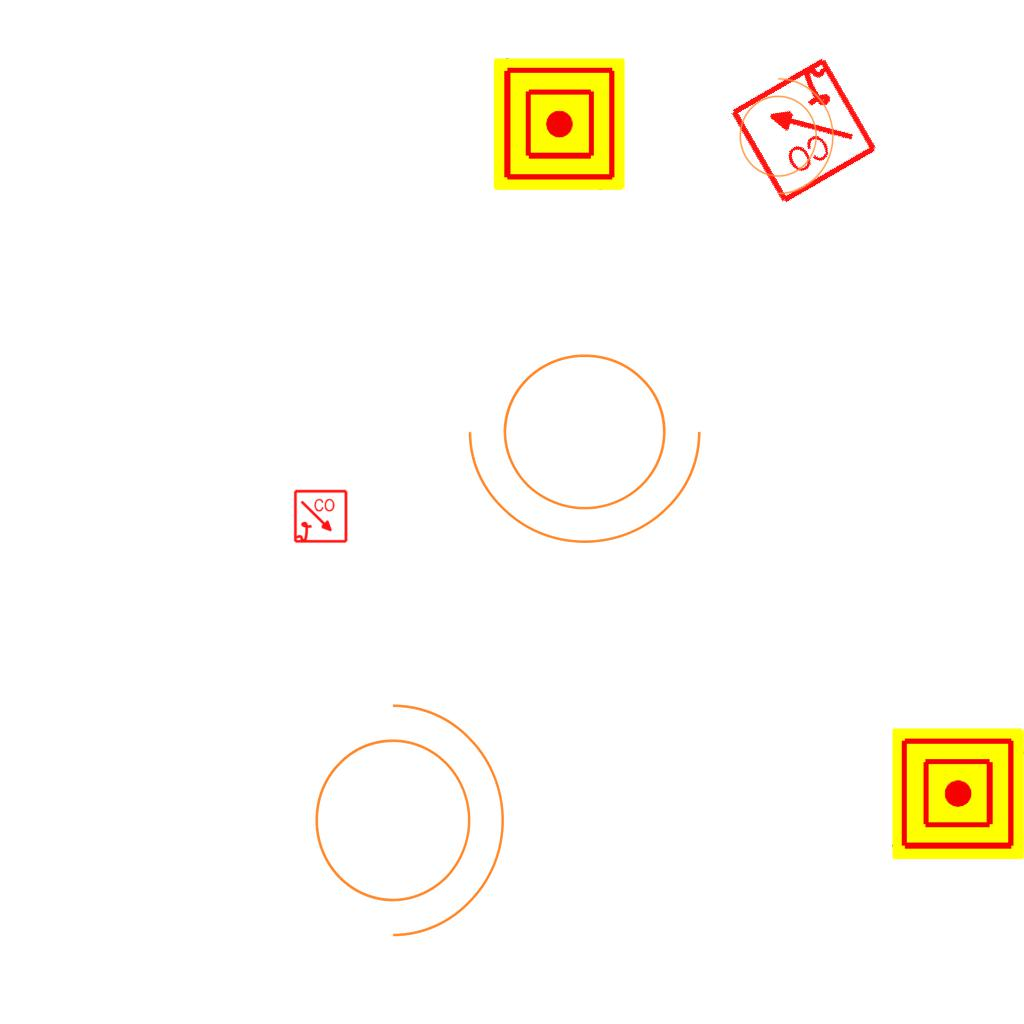NAM-Nichtautomatischer_Melder: (892, 728, 1024, 860), (493, 58, 625, 190)
ROA_Rauchmelder_optisch_mit_Signalgeber_(Sockelsirene): (725, 52, 880, 207), (293, 489, 349, 545)
Scheinwerfer_fuer_Alarmbeleuchtung: (290, 682, 515, 946), (459, 329, 723, 554), (727, 67, 839, 199)
